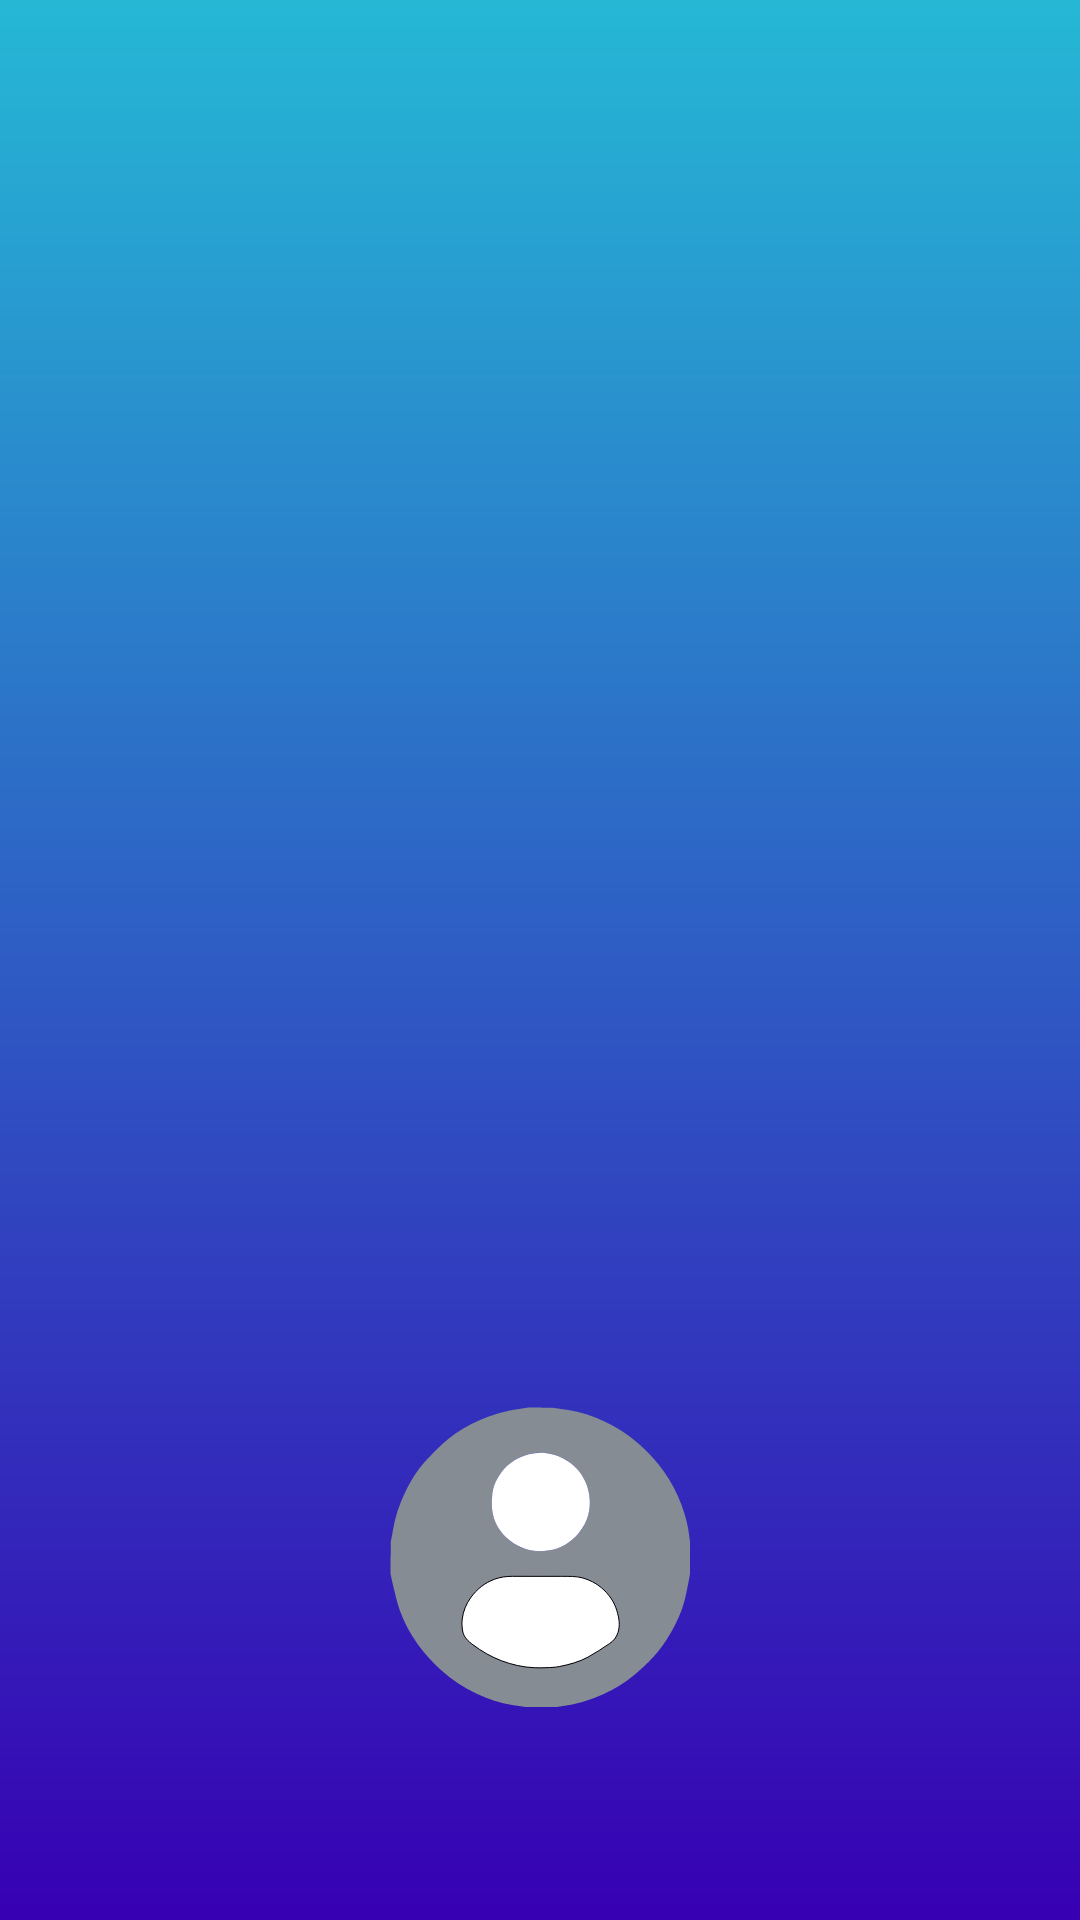

Where icons sit on this 1080w x 1920h app screen, as (x1, y1, x2, y2):
profile user: (390, 1407, 690, 1707)
